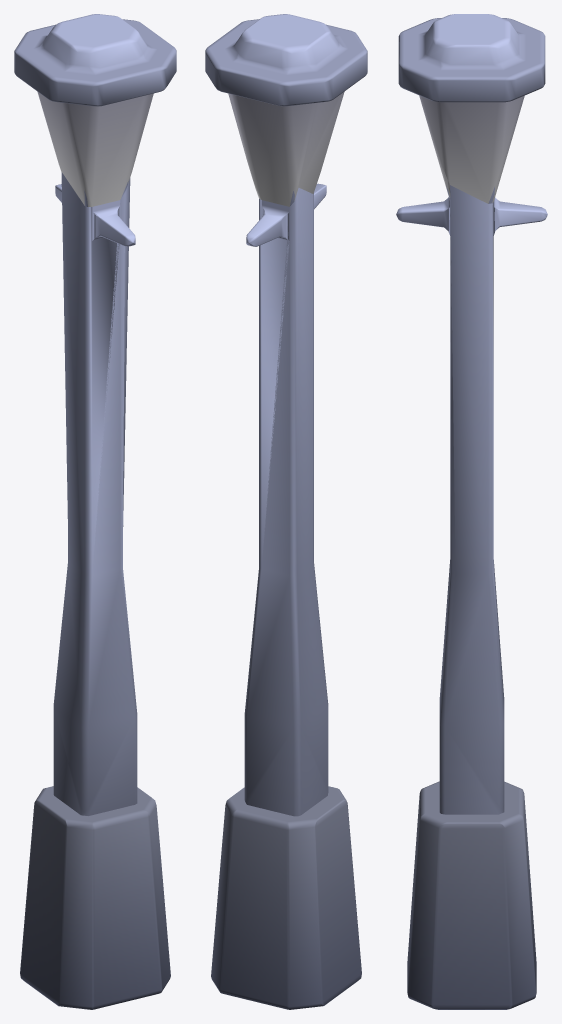
The model's file is lantern.glb.
3 views of the same model, side by side, from view 1: azimuth 30°, elevation 25°; view 2: azimuth 150°, elevation 25°; view 3: azimuth 270°, elevation 25° (orthographic).
Parts seen in each view (by area): view 1: lantern; view 2: lantern; view 3: lantern.
Part boxes in pixels (left/top/right/bottom): lantern: left=14, top=14, right=176, bottom=1009; lantern: left=205, top=14, right=367, bottom=1009; lantern: left=396, top=14, right=547, bottom=1009.
Bounding box in the file's own units: 0.2164 × 1.56 × 0.2243.
Materials: 1 (1 with a texture image).
